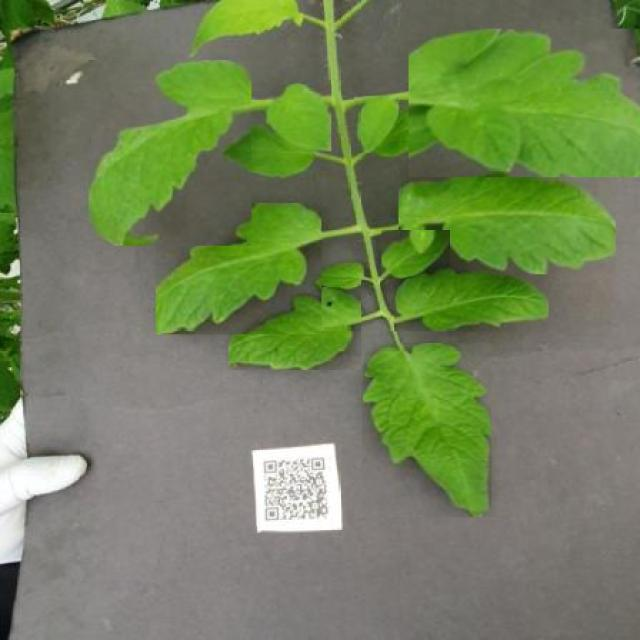Healthy: (408, 29, 640, 177), (89, 61, 252, 246), (399, 157, 616, 274), (363, 343, 491, 518), (157, 204, 322, 335), (229, 288, 360, 371), (395, 267, 549, 332), (267, 85, 332, 152), (382, 230, 451, 279), (354, 96, 399, 153)
